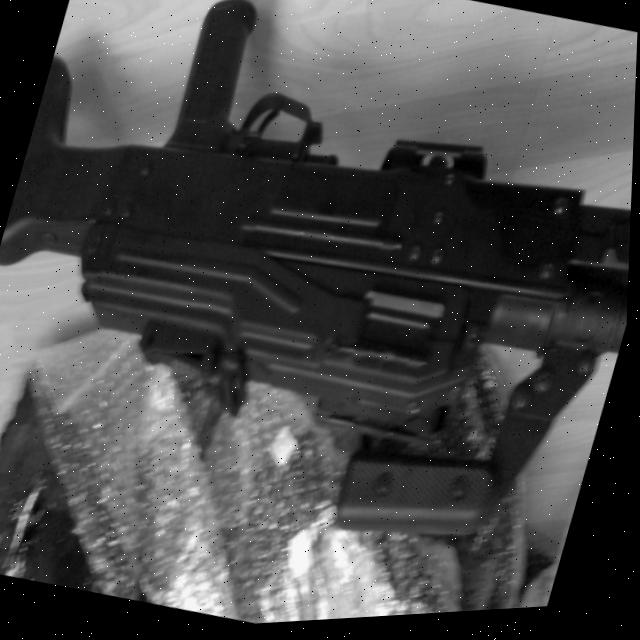firearm: (0, 0, 640, 607)
